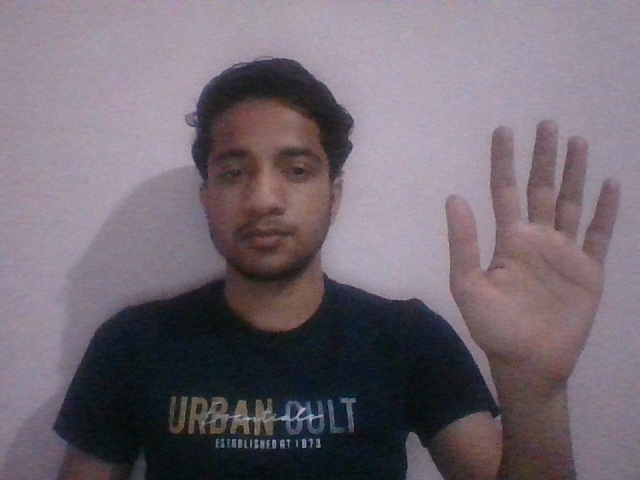Hello: (442, 116, 623, 386)
